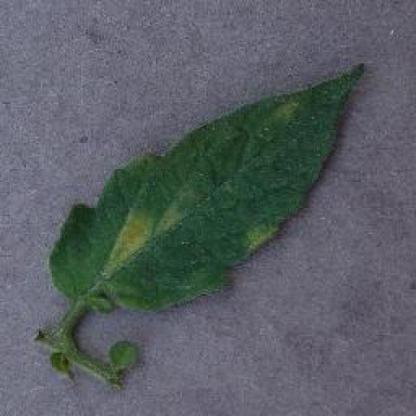Tomato_Leaf_Mold: (49, 62, 363, 307)
